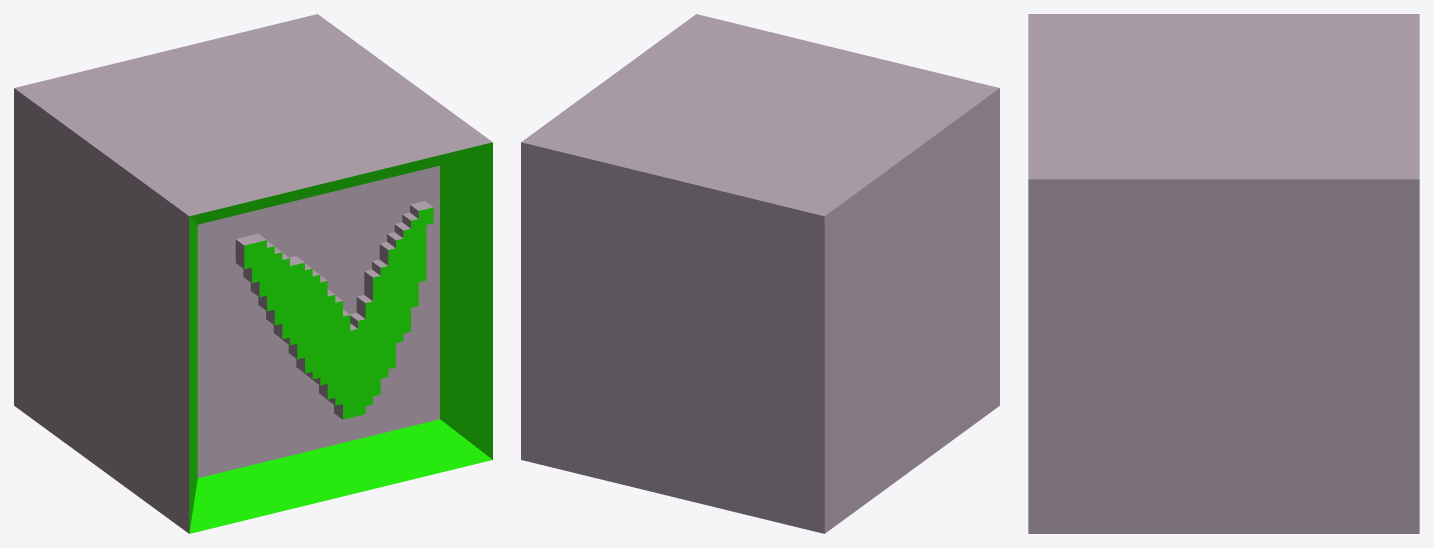
File: BlockV.fbx
The picture shows the model from 3 angles, left to right: view 1: azimuth 30°, elevation 25°; view 2: azimuth 150°, elevation 25°; view 3: azimuth 270°, elevation 25°; orthographic projection. The views are drawn at different scales.
Visible parts, largest first — view 1: Cube; view 2: Cube; view 3: Cube.
Part boxes in pixels (box(x1,y1,x2,y2)): Cube: box(14, 14, 492, 533); Cube: box(521, 14, 999, 533); Cube: box(1028, 14, 1419, 533).
Bounding box in the file's own units: 2000 × 2000 × 2000.
